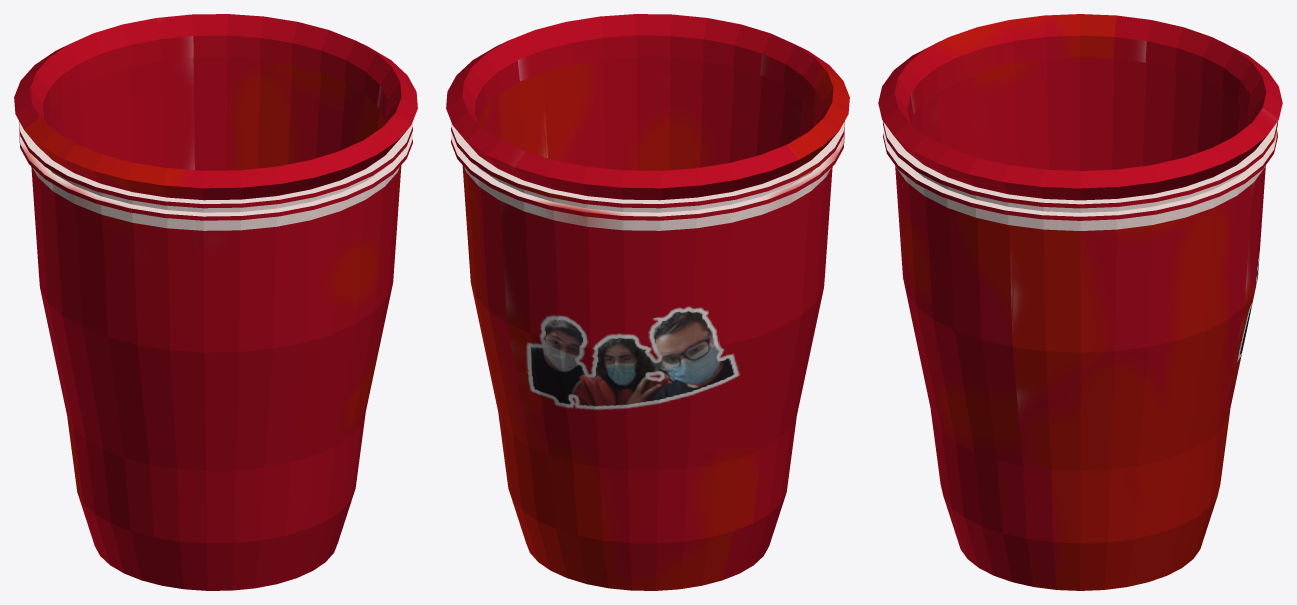
File: birra (1).fbx
3 renders of one model, left to right at view 1: azimuth 30°, elevation 25°; view 2: azimuth 150°, elevation 25°; view 3: azimuth 270°, elevation 25°, orthographic.
Visible parts, largest first — view 1: Plane.001; view 2: Plane.001; view 3: Plane.001.
Boxes of the visible parts, x1,y1,x2,y2 form: Plane.001: (14,14,417,590); Plane.001: (446,14,849,590); Plane.001: (878,14,1282,590).
Bounding box in the file's own units: 10.06 × 12.27 × 10.06.
Materials: 1 (1 with a texture image).
